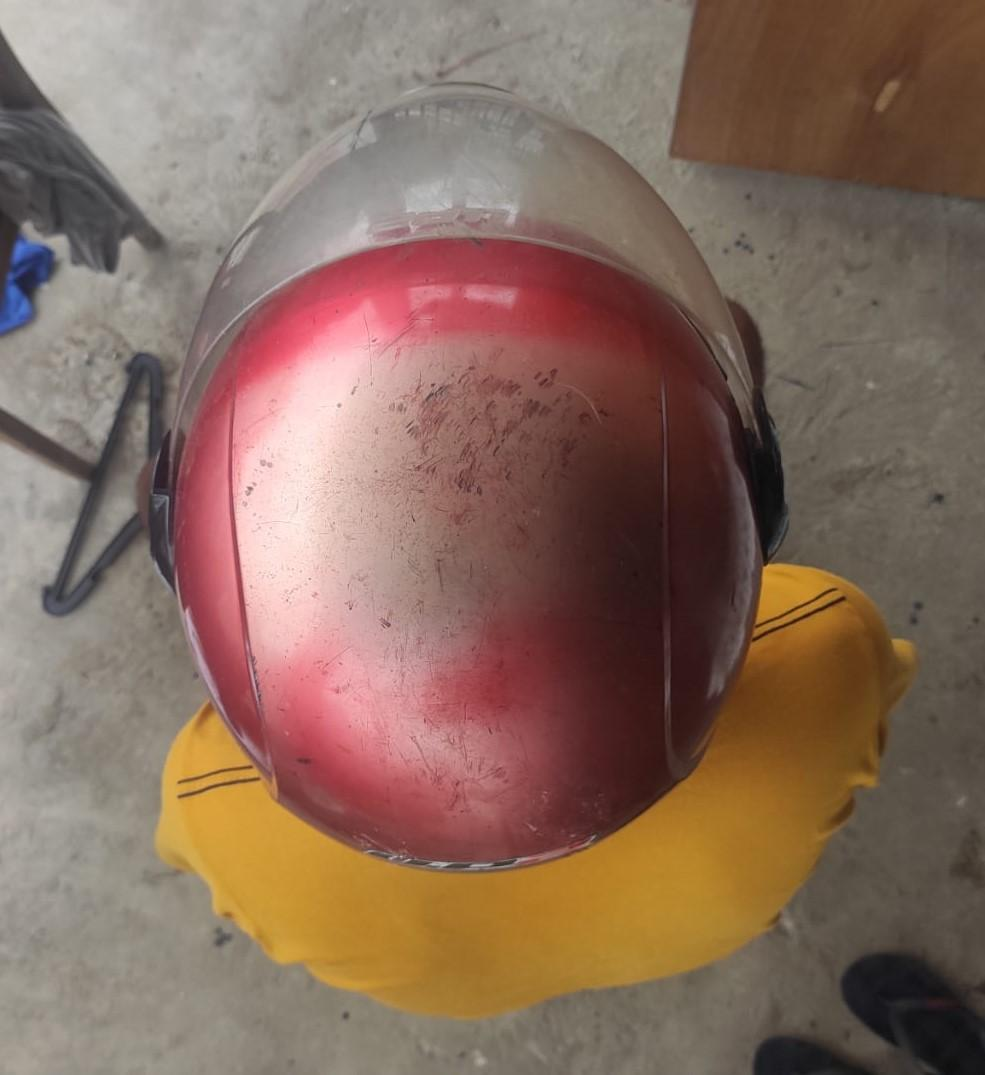helmet: (145, 80, 790, 868)
